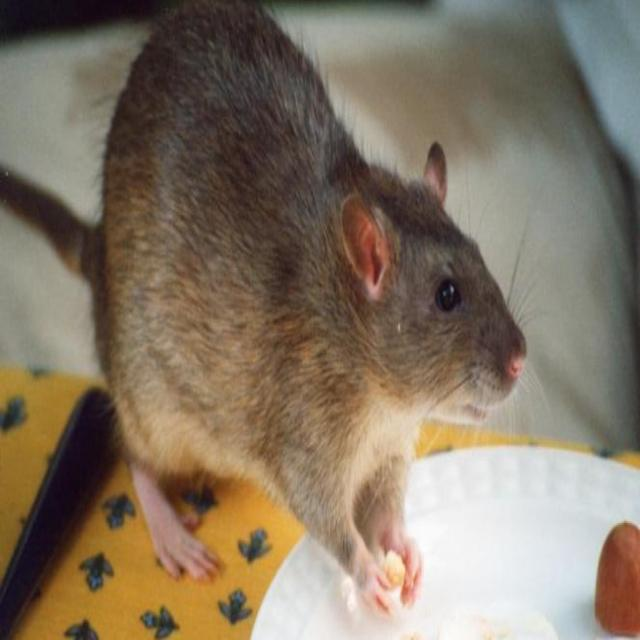rat: (87, 0, 528, 613)
